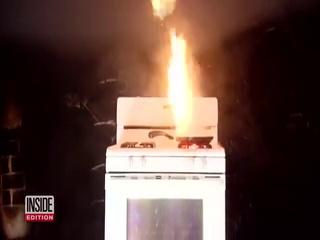Fire: (155, 1, 206, 136)
